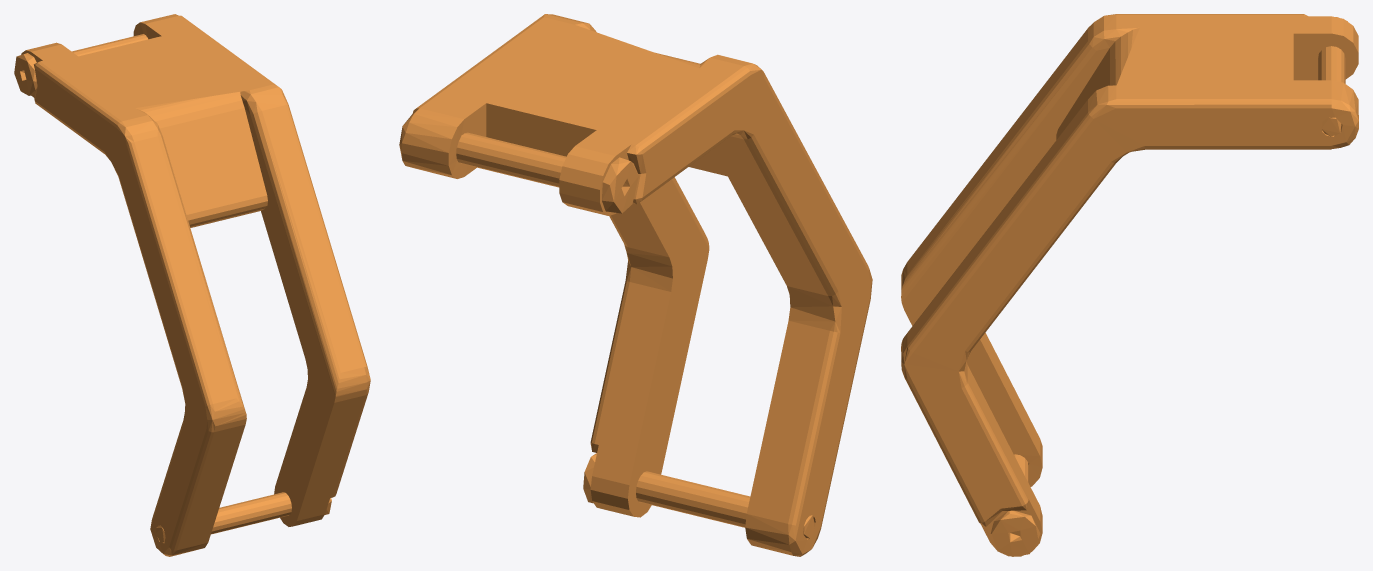
Rendered from inner_single.dae.
3 views of the same model, side by side, from view 1: azimuth 30°, elevation 25°; view 2: azimuth 150°, elevation 25°; view 3: azimuth 270°, elevation 25° (orthographic). The views are drawn at different scales.
Parts seen in each view (by area): view 1: inner_single; view 2: inner_single; view 3: inner_single.
Boxes of the visible parts, x1,y1,x2,y2 form: inner_single: (14, 14, 370, 556); inner_single: (399, 14, 872, 556); inner_single: (901, 14, 1358, 556).
Size of the model in its own units: 0.0312 by 0.0664 by 0.0735.
